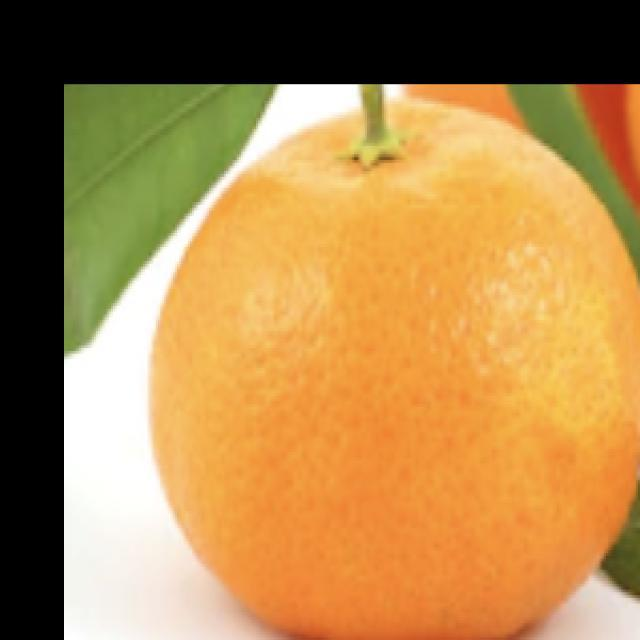Orange: (147, 90, 639, 639)
